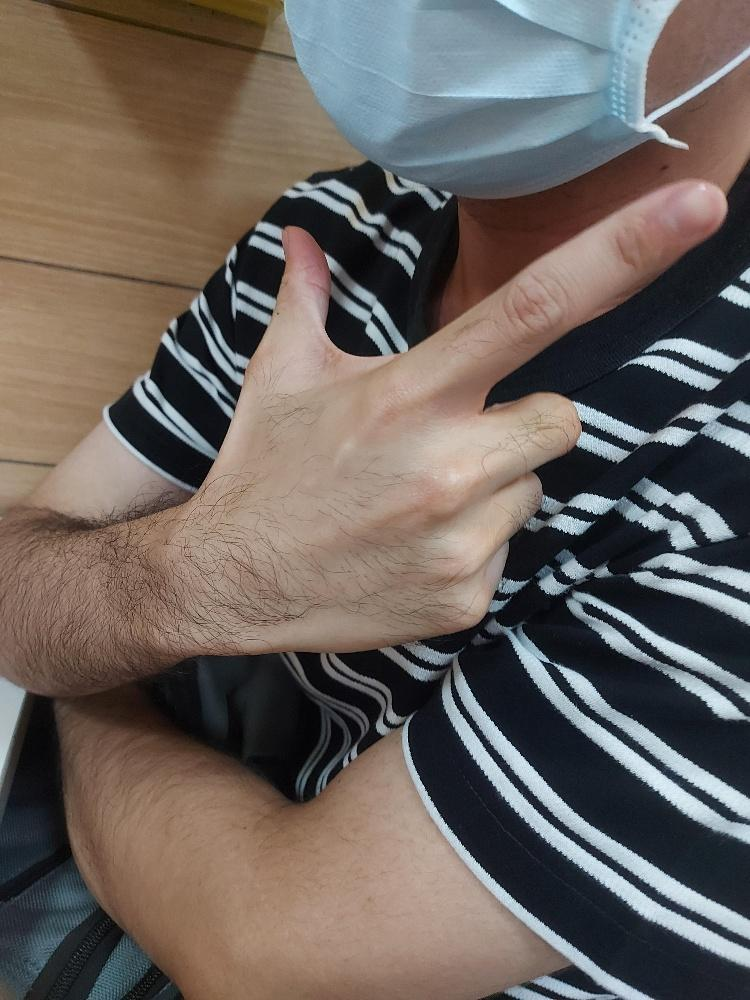g: (180, 174, 730, 654)
